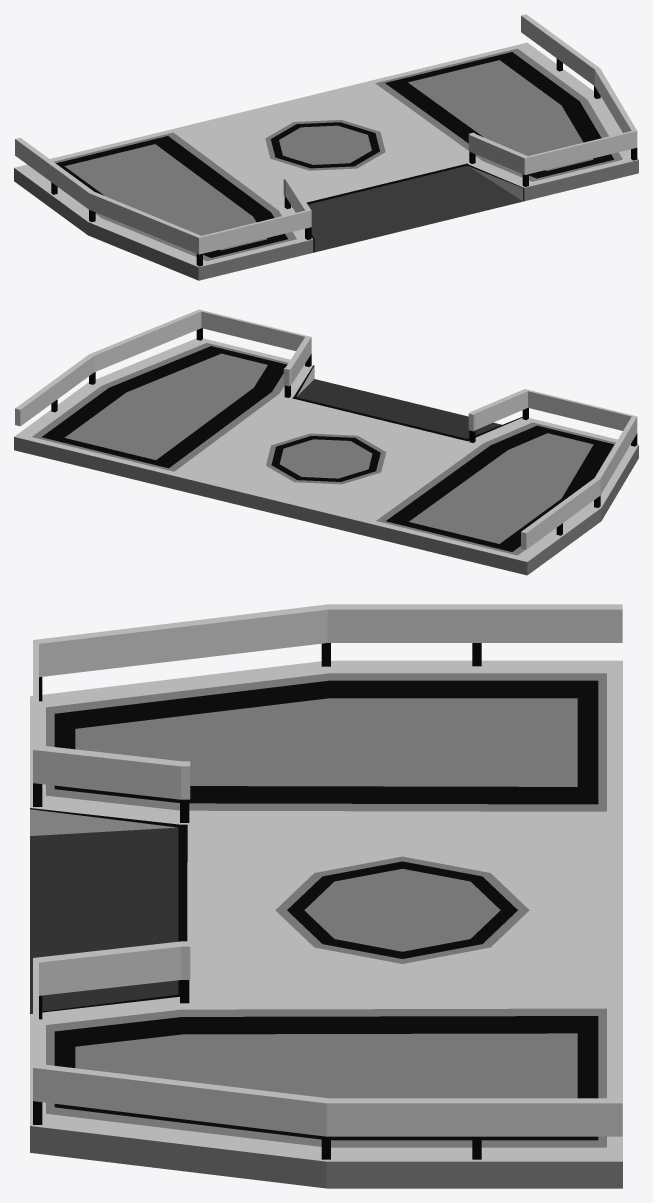
File: VarandaInstituto.gltf
3 views of the same model, one above another, from view 1: azimuth 30°, elevation 25°; view 2: azimuth 150°, elevation 25°; view 3: azimuth 270°, elevation 25° (orthographic). The views are drawn at different scales.
Parts seen in each view (by area): view 1: Cube.031; view 2: Cube.031; view 3: Cube.031.
Part boxes in pixels (x1=…): Cube.031: x1=14, y1=14, x2=638, y2=280; Cube.031: x1=14, y1=309, x2=638, y2=575; Cube.031: x1=30, y1=604, x2=622, y2=1188.
Bounding box in the file's own units: 20 × 1.56 × 10.
Materials: 1 (1 with a texture image).
